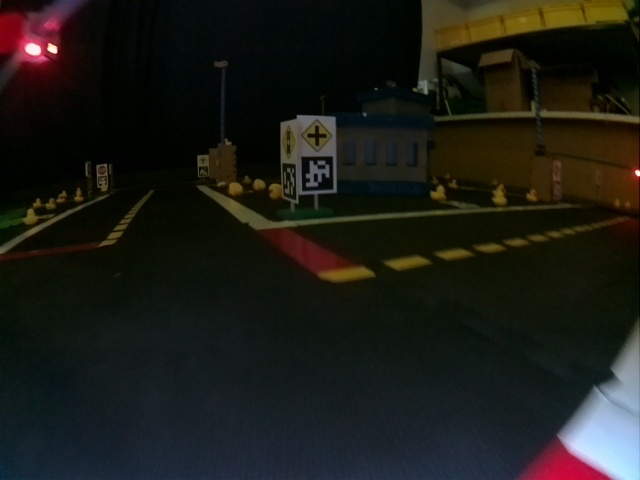Duckie: (430, 186, 444, 200), (24, 210, 38, 224), (227, 182, 242, 194), (271, 185, 282, 198), (492, 191, 505, 202), (526, 190, 537, 201), (46, 199, 56, 208)
Intersection sign: (303, 118, 333, 153), (199, 157, 207, 165)
QR code: (302, 156, 335, 192), (281, 164, 296, 203), (198, 166, 208, 176), (98, 177, 107, 186)
Signal sign: (281, 119, 297, 162)
Stop sign: (98, 166, 107, 174)
